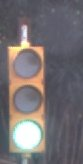Green: (4, 30, 50, 158)
